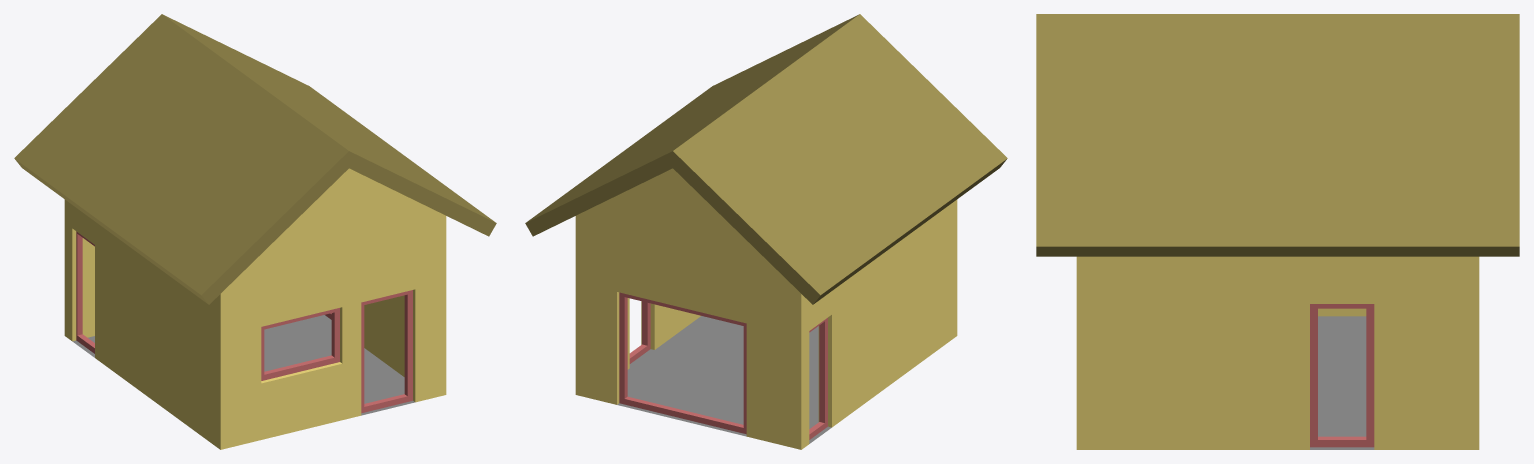
Rendered from result.glb.
3 views of the same model, side by side, from view 1: azimuth 30°, elevation 25°; view 2: azimuth 150°, elevation 25°; view 3: azimuth 270°, elevation 25° (orthographic). The views are drawn at different scales.
Visible parts, largest first — view 1: 2b4a807e-7910-4a17-81c0-5d5934bcf498__undefined, 36d9c552-6fe3-43dc-b3c4-28801d3c7610__undefined (×2), 41f115ca-d90a-40bc-98a3-0ae101b79607__Plane_6, acf7b691-b98b-4a62-9f43-8435dde50461__Box, 0540b0e3-e2b6-4bf3-acba-5ed4a5b0250f__Box_3, dc43eda9-7936-48f4-bd8d-5fefc6feb9ea__Box_12; view 2: 36d9c552-6fe3-43dc-b3c4-28801d3c7610__undefined (×2), 2b4a807e-7910-4a17-81c0-5d5934bcf498__undefined, 41f115ca-d90a-40bc-98a3-0ae101b79607__Plane_6, ee70f80f-27d5-4b92-825f-d8eb189f2acd__Box_9, dc43eda9-7936-48f4-bd8d-5fefc6feb9ea__Box_12, 94ccf2e6-f597-4eb2-8d0b-f266c9cd946a__Box_15; view 3: 36d9c552-6fe3-43dc-b3c4-28801d3c7610__undefined, 2b4a807e-7910-4a17-81c0-5d5934bcf498__undefined, 41f115ca-d90a-40bc-98a3-0ae101b79607__Plane_6, 94ccf2e6-f597-4eb2-8d0b-f266c9cd946a__Box_15.
Part boxes in pixels (box(x1,y1,x2,y2)): 2b4a807e-7910-4a17-81c0-5d5934bcf498__undefined: box(64, 168, 446, 449); 36d9c552-6fe3-43dc-b3c4-28801d3c7610__undefined (×2): box(14, 14, 496, 304); 41f115ca-d90a-40bc-98a3-0ae101b79607__Plane_6: box(72, 315, 414, 415); acf7b691-b98b-4a62-9f43-8435dde50461__Box: box(361, 290, 412, 413); 0540b0e3-e2b6-4bf3-acba-5ed4a5b0250f__Box_3: box(261, 308, 339, 380); dc43eda9-7936-48f4-bd8d-5fefc6feb9ea__Box_12: box(76, 231, 94, 353); 36d9c552-6fe3-43dc-b3c4-28801d3c7610__undefined (×2): box(525, 14, 1007, 304); 2b4a807e-7910-4a17-81c0-5d5934bcf498__undefined: box(575, 168, 957, 449); 41f115ca-d90a-40bc-98a3-0ae101b79607__Plane_6: box(617, 316, 831, 443); ee70f80f-27d5-4b92-825f-d8eb189f2acd__Box_9: box(619, 292, 746, 434); dc43eda9-7936-48f4-bd8d-5fefc6feb9ea__Box_12: box(809, 317, 827, 439); 94ccf2e6-f597-4eb2-8d0b-f266c9cd946a__Box_15: box(629, 301, 650, 363); 36d9c552-6fe3-43dc-b3c4-28801d3c7610__undefined: box(1036, 14, 1519, 256); 2b4a807e-7910-4a17-81c0-5d5934bcf498__undefined: box(1076, 256, 1479, 449); 41f115ca-d90a-40bc-98a3-0ae101b79607__Plane_6: box(1310, 316, 1374, 449); 94ccf2e6-f597-4eb2-8d0b-f266c9cd946a__Box_15: box(1310, 304, 1374, 447).
Bounding box in the file's own units: 547 × 500 × 600.
